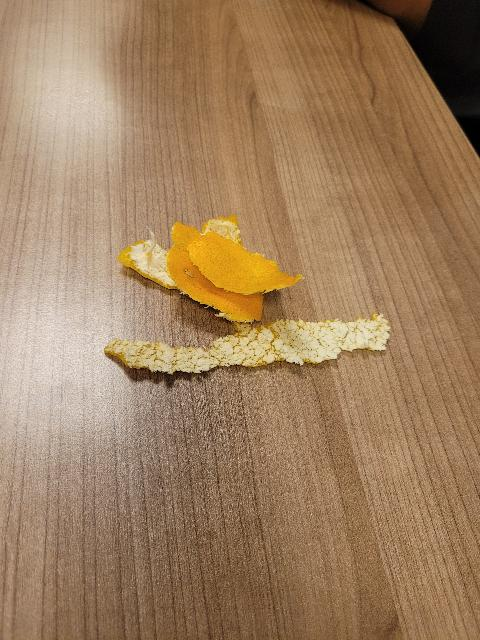Organik: (104, 309, 407, 390), (117, 210, 310, 327)
